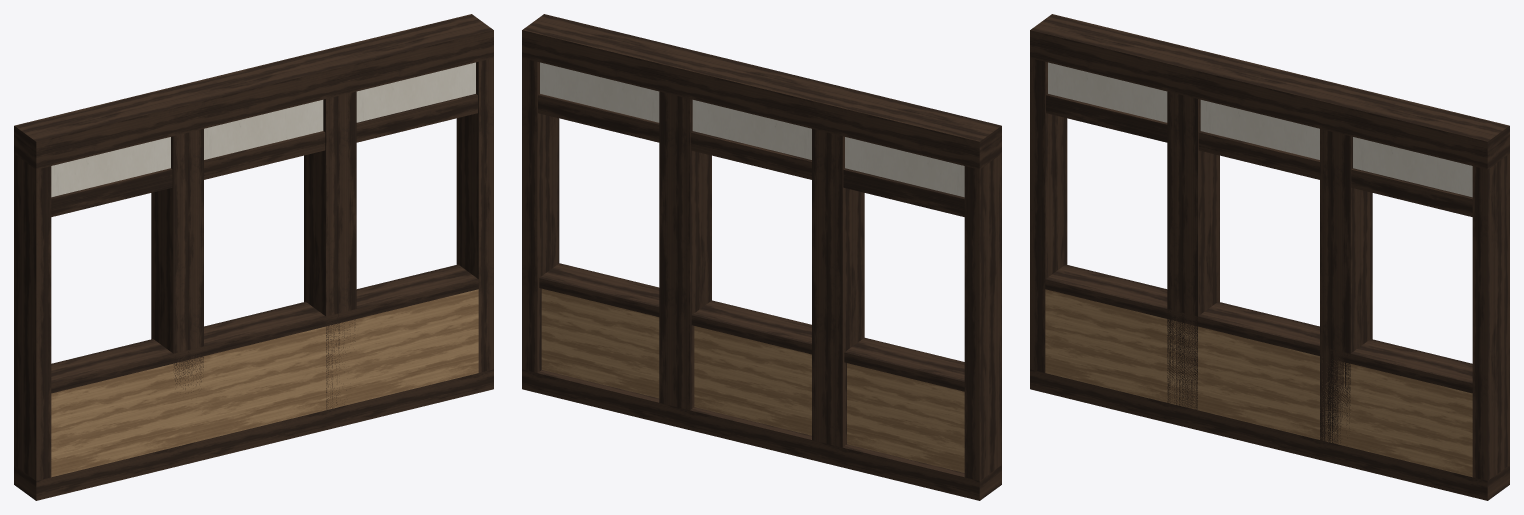
File: HO_Wall_Front_OpenShop_12.fbx
3 renders of one model, left to right at view 1: azimuth 30°, elevation 25°; view 2: azimuth 150°, elevation 25°; view 3: azimuth 330°, elevation 25°, orthographic.
Parts seen in each view (by area): view 1: HO_Wall_Front_OpenShop_12; view 2: HO_Wall_Front_OpenShop_12; view 3: HO_Wall_Front_OpenShop_12.
Part boxes in pixels (x1,y1,x2,y2): HO_Wall_Front_OpenShop_12: [14, 14, 493, 500]; HO_Wall_Front_OpenShop_12: [522, 14, 1001, 500]; HO_Wall_Front_OpenShop_12: [1030, 14, 1509, 500].
Size of the model in its own units: 12 by 9 by 1.
